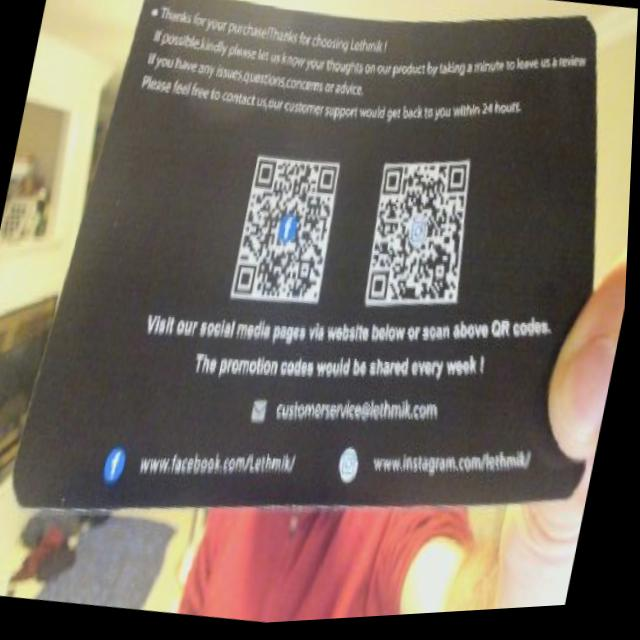QR_CODE: (341, 131, 498, 342), (221, 131, 357, 324)
